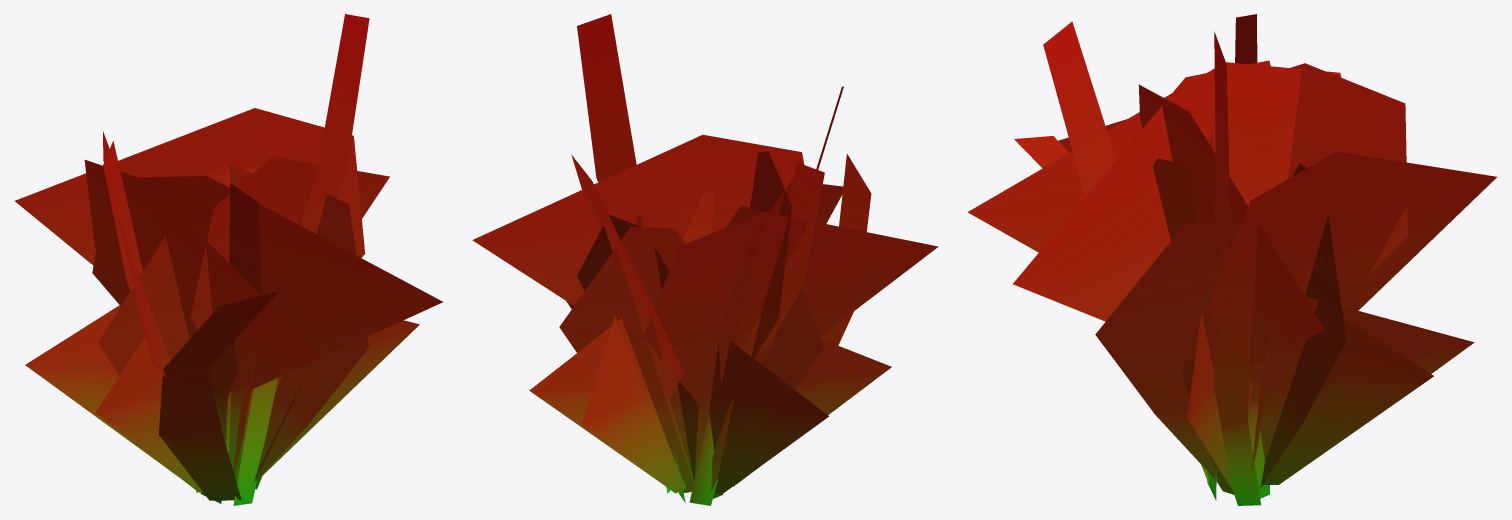
The model's file is tlijciuia_Var5_LOD0.fbx.
3 renders of one model, left to right at view 1: azimuth 30°, elevation 25°; view 2: azimuth 150°, elevation 25°; view 3: azimuth 270°, elevation 25°, orthographic. The views are drawn at different scales.
Parts seen in each view (by area): view 1: _96e9_Var5_LOD0; view 2: _96e9_Var5_LOD0; view 3: _96e9_Var5_LOD0.
Part boxes in pixels (<box>): _96e9_Var5_LOD0: <box>15,14,442,505</box>; _96e9_Var5_LOD0: <box>472,14,938,505</box>; _96e9_Var5_LOD0: <box>967,14,1496,505</box>.
Size of the model in its own units: 6.47 by 7.84 by 7.24.
